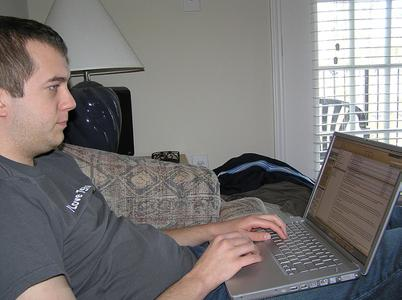person: (1, 16, 288, 300)
